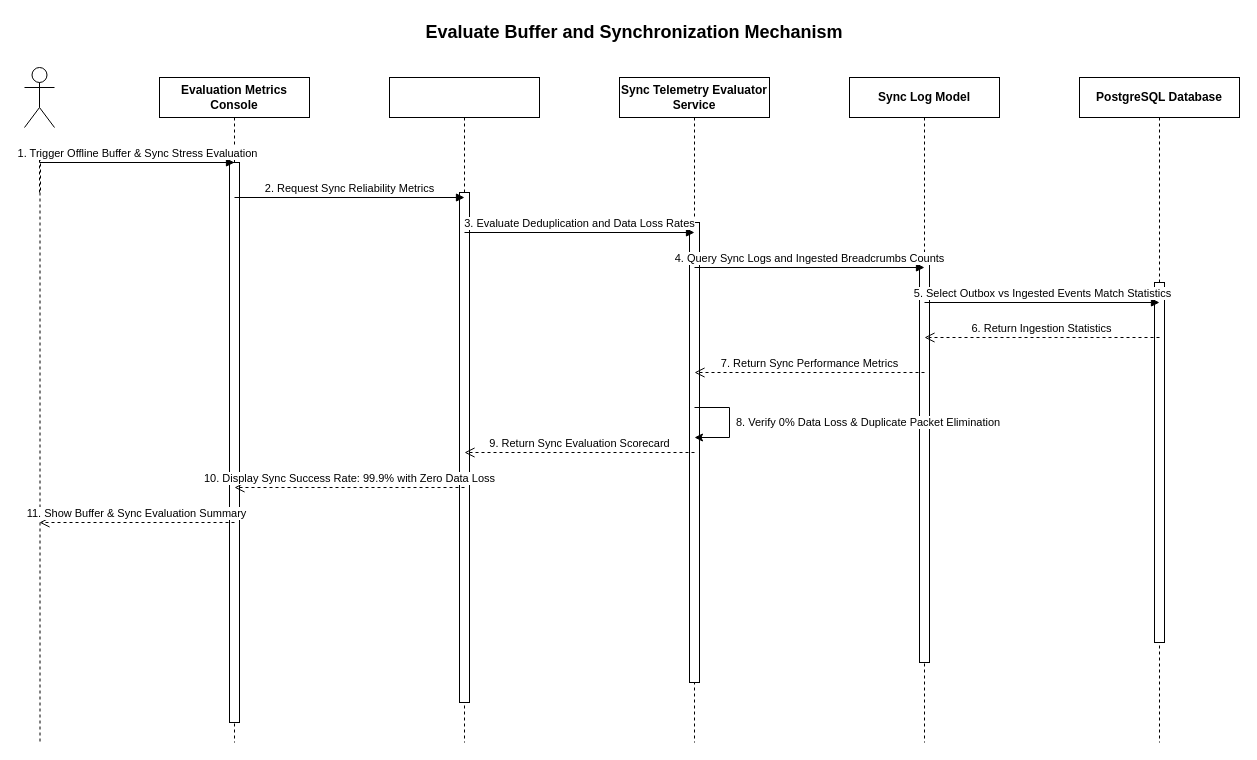
Image size: 1257x760. Some labels were removed from this diagram. Each missing label, with the box of its shape:
Admin: (24, 66, 54, 128)
Evaluation Controller: (388, 76, 540, 742)
